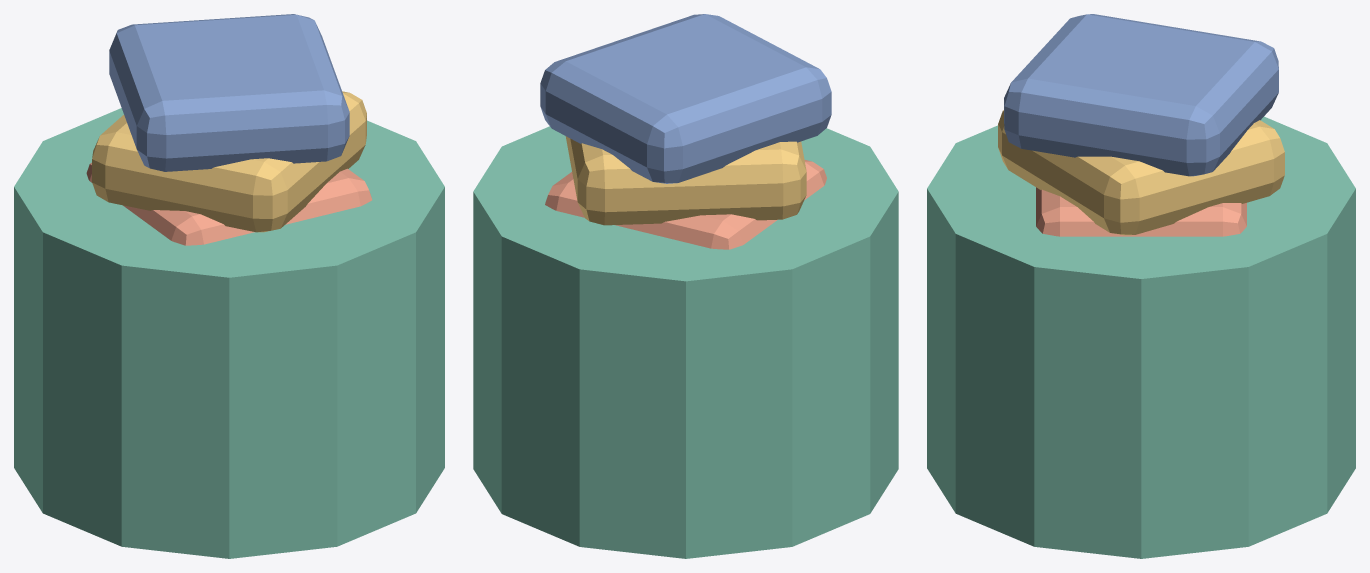
Rendered from prop_ember_cucian.fbx.
3 views of the same model, side by side, from view 1: azimuth 30°, elevation 25°; view 2: azimuth 150°, elevation 25°; view 3: azimuth 270°, elevation 25° (orthographic).
Visible parts, largest first — view 1: prop_ember_cucian; view 2: prop_ember_cucian; view 3: prop_ember_cucian.
Part boxes in pixels (x1,y1,x2,y2): prop_ember_cucian: (14, 14, 444, 558); prop_ember_cucian: (473, 14, 898, 558); prop_ember_cucian: (927, 14, 1355, 558).
Bounding box in the file's own units: 50 × 52.5 × 50.
Materials: 1 (1 with a texture image).
